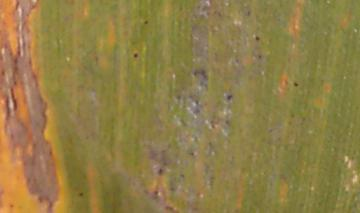tarspot: (192, 67, 210, 80), (223, 93, 234, 102), (156, 166, 164, 175), (253, 34, 262, 42), (291, 79, 299, 88), (77, 190, 85, 198), (131, 51, 139, 59), (188, 150, 195, 157), (143, 18, 149, 26), (256, 53, 263, 59), (178, 172, 185, 177), (224, 120, 229, 125)
